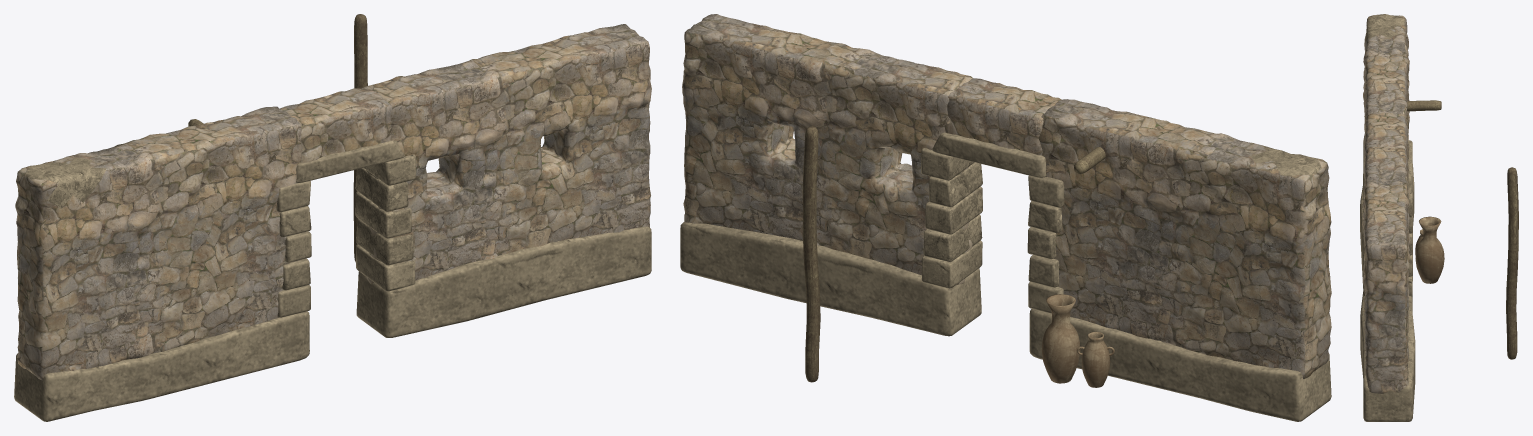
Rendered from modular_ancient_house_01.glb.
3 renders of one model, left to right at view 1: azimuth 30°, elevation 25°; view 2: azimuth 150°, elevation 25°; view 3: azimuth 270°, elevation 25°, orthographic. The views are drawn at different scales.
Parts seen in each view (by area): view 1: Wall_01, Wall_02, LargeBlock_02, LargeBlock_01, SmallWall, Block_06, Block_11, Block_09, Block_10, Block_08, Pole_01, Block_07 (+5 smaller); view 2: Wall_01, Wall_02, LargeBlock_02, LargeBlock_01, SmallWall, Pole_01, Pot_01, Block_06, Block_11, Block_09, Block_10, Block_08 (+7 smaller); view 3: Wall_02, Wall_01, LargeBlock_02, Pole_01, SmallWall, Pot_01, LargeBlock_01, Pole_02, Block_06.
Boxes of the visible parts, x1,y1,x2,y2 form: Wall_01: (15, 106, 301, 380); Wall_02: (365, 24, 651, 284); LargeBlock_02: (356, 226, 651, 337); LargeBlock_01: (14, 311, 309, 421); SmallWall: (280, 86, 392, 162); Block_06: (296, 140, 404, 182); Block_11: (356, 244, 415, 291); Block_09: (355, 191, 411, 238); Block_10: (356, 219, 413, 265); Block_08: (355, 168, 408, 211); Pole_01: (353, 14, 367, 262); Block_07: (363, 154, 416, 185); Wall_01: (1038, 99, 1331, 379); Wall_02: (682, 14, 974, 285); LargeBlock_02: (680, 222, 981, 336); LargeBlock_01: (1029, 309, 1331, 421); SmallWall: (944, 78, 1061, 155); Pole_01: (802, 126, 820, 382); Pot_01: (1041, 294, 1080, 383); Block_06: (932, 132, 1046, 177); Block_11: (921, 240, 982, 288); Block_09: (925, 186, 982, 234); Block_10: (923, 214, 982, 261); Block_08: (929, 162, 982, 207); Wall_02: (1362, 146, 1410, 393); Wall_01: (1363, 14, 1409, 142); LargeBlock_02: (1360, 292, 1415, 421); Pole_01: (1506, 167, 1518, 359); SmallWall: (1363, 113, 1409, 164); Pot_01: (1415, 216, 1444, 283); LargeBlock_01: (1360, 164, 1414, 288); Pole_02: (1406, 100, 1441, 111); Block_06: (1363, 140, 1412, 193).
Bounding box in the file's own units: 8.82 × 3.42 × 2.57.
Materials: 3 (3 with a texture image).
